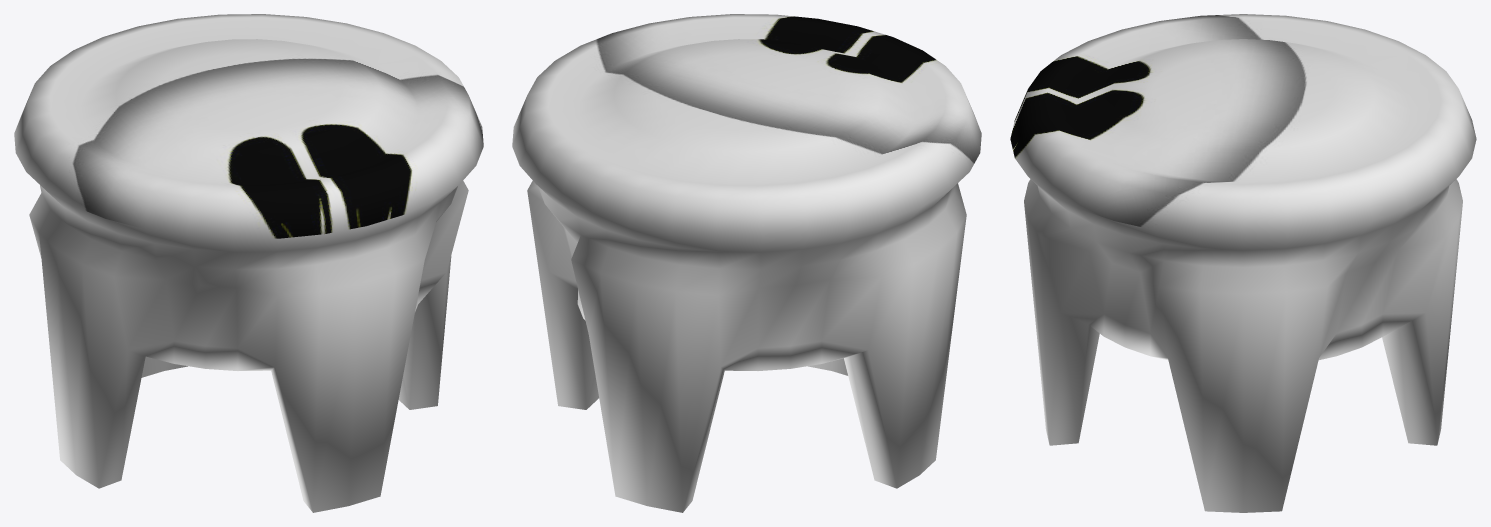
Rendered from pulijudam-dot-lamb.gltf.
The picture shows the model from 3 angles, left to right: view 1: azimuth 30°, elevation 25°; view 2: azimuth 150°, elevation 25°; view 3: azimuth 270°, elevation 25°; orthographic projection.
Bounding box in the file's own units: 1.65 × 1.33 × 1.65.
1 material, 1 textured.
